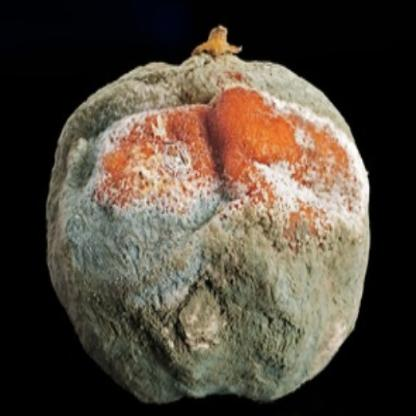rotten: (46, 26, 369, 401)
